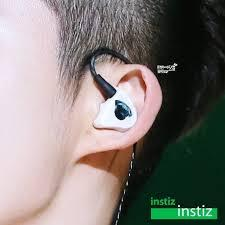earphone: (93, 86, 137, 132)
